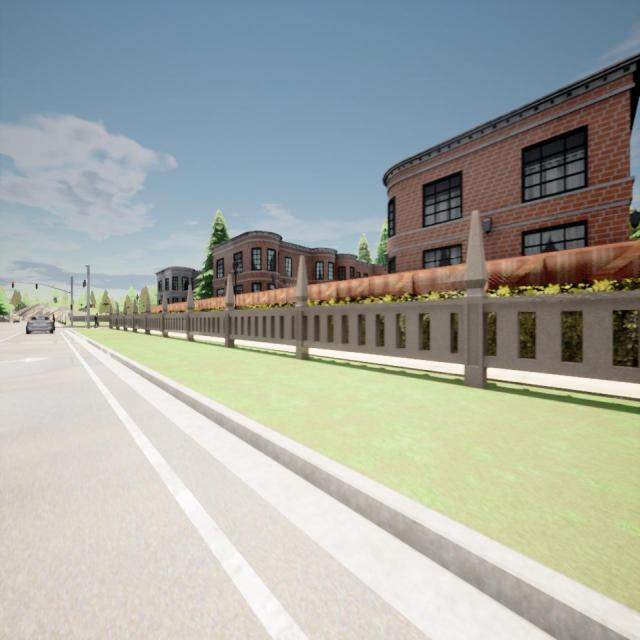Pedestrian: (94, 312, 99, 329), (52, 313, 56, 331)
Vehicle: (26, 315, 54, 334), (13, 319, 20, 323)
traffic_light: (83, 280, 86, 288), (12, 282, 14, 288), (36, 284, 38, 289), (71, 304, 72, 310)
